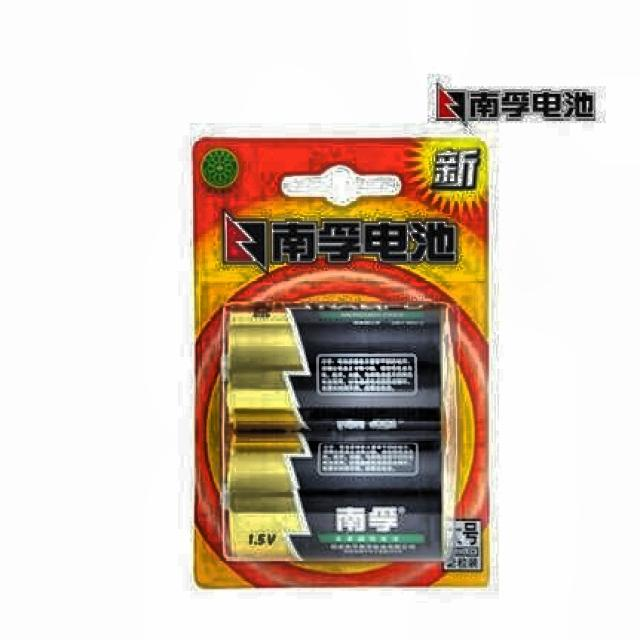Non-Valuable Waste - Batteries: (222, 306, 441, 559)
